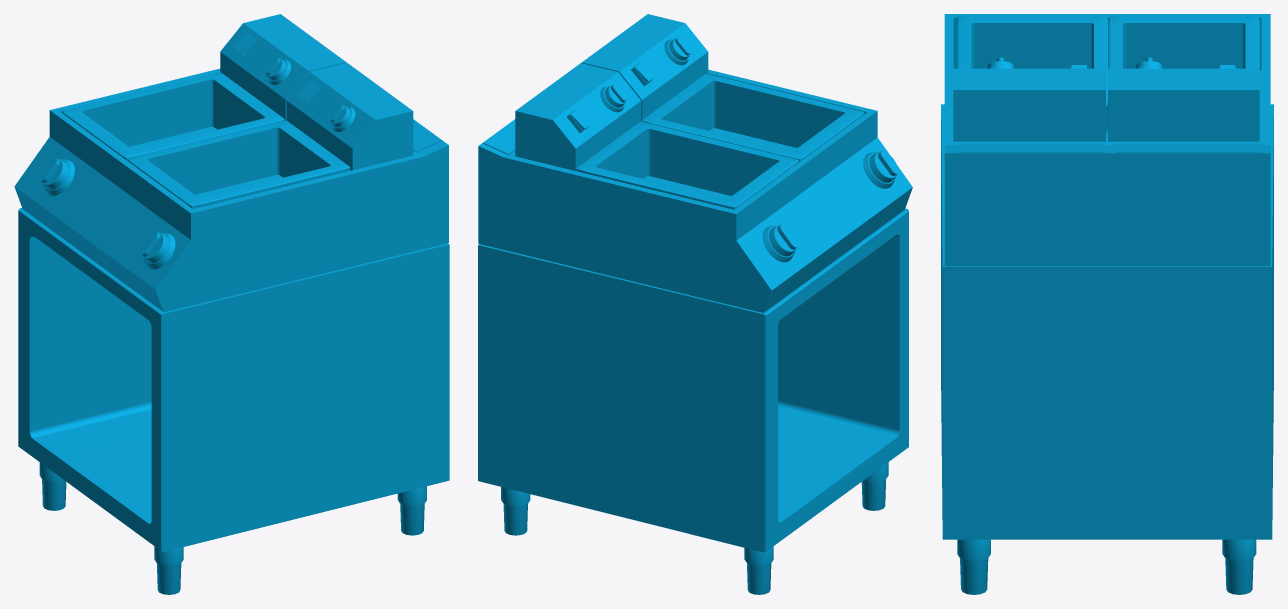
Rendered from Restaurant_Electric_Fryer_Lod0.fbx.
3 views of the same model, side by side, from view 1: azimuth 30°, elevation 25°; view 2: azimuth 150°, elevation 25°; view 3: azimuth 270°, elevation 25° (orthographic). The views are drawn at different scales.
Parts seen in each view (by area): view 1: Restaurant_Electric_Fryer_Lod0; view 2: Restaurant_Electric_Fryer_Lod0; view 3: Restaurant_Electric_Fryer_Lod0.
Boxes of the visible parts, bbox=[...] form: Restaurant_Electric_Fryer_Lod0: bbox=[14, 14, 449, 594]; Restaurant_Electric_Fryer_Lod0: bbox=[478, 14, 912, 594]; Restaurant_Electric_Fryer_Lod0: bbox=[941, 14, 1273, 594].
Size of the model in its own units: 69.61 by 97.85 by 59.19.
